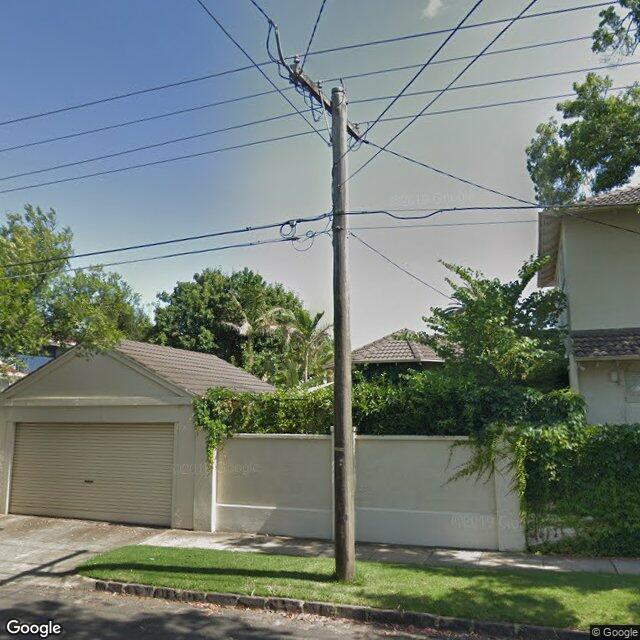crossarm: (290, 65, 361, 142)
timber-pole: (332, 87, 356, 583)
